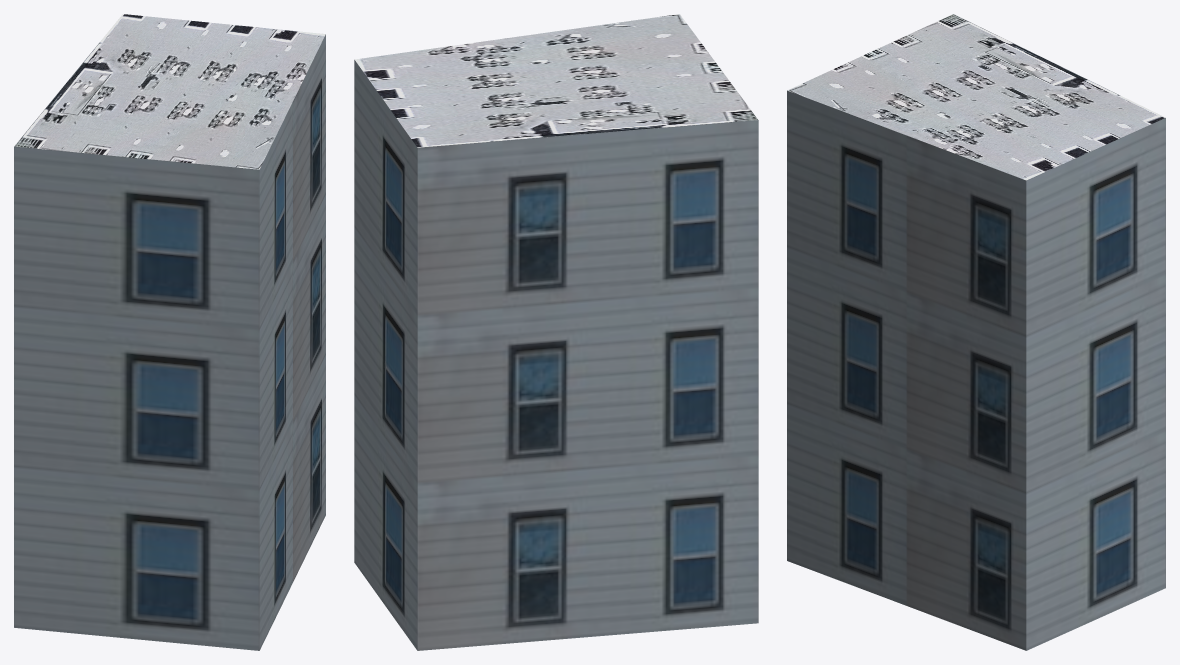
File: ResTex__3430.fbx
3 views of the same model, side by side, from view 1: azimuth 30°, elevation 25°; view 2: azimuth 150°, elevation 25°; view 3: azimuth 270°, elevation 25° (orthographic). The views are drawn at different scales.
Parts seen in each view (by area): view 1: CityEngineMaterial_18_m, CityEngineMaterial_4_m; view 2: CityEngineMaterial_18_m, CityEngineMaterial_4_m; view 3: CityEngineMaterial_18_m, CityEngineMaterial_4_m.
Part boxes in pixels (box(x1,y1,x2,y2)): CityEngineMaterial_18_m: box(14, 34, 325, 650); CityEngineMaterial_4_m: box(14, 14, 325, 169); CityEngineMaterial_18_m: box(354, 60, 758, 650); CityEngineMaterial_4_m: box(354, 14, 757, 147); CityEngineMaterial_18_m: box(787, 90, 1165, 650); CityEngineMaterial_4_m: box(787, 14, 1165, 180).
Size of the model in its own units: 6.83 by 9 by 6.57.
Materials: 2 (2 with a texture image).
